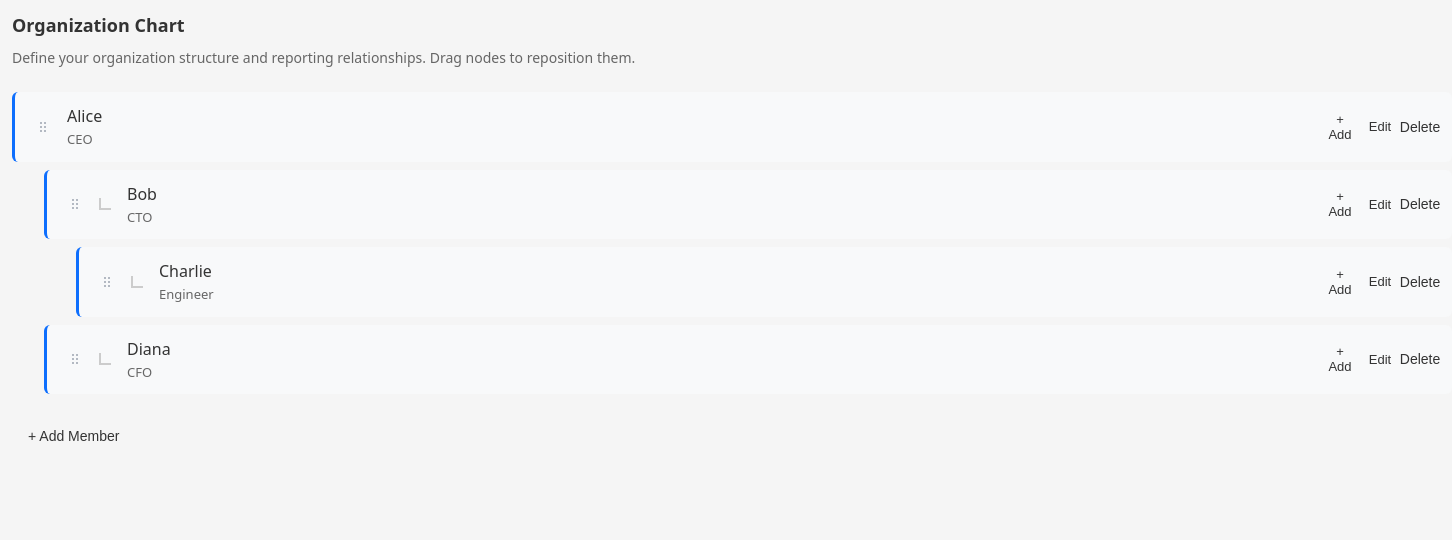
OrgChartEditor › Editing nodes › cancels edit when Cancel button is clicked
This screenshot has width=1452, height=540.
Click the button with aria-label "Edit Alice" at (1380, 127), box top-left (1364, 111), bottom-right (1396, 143)
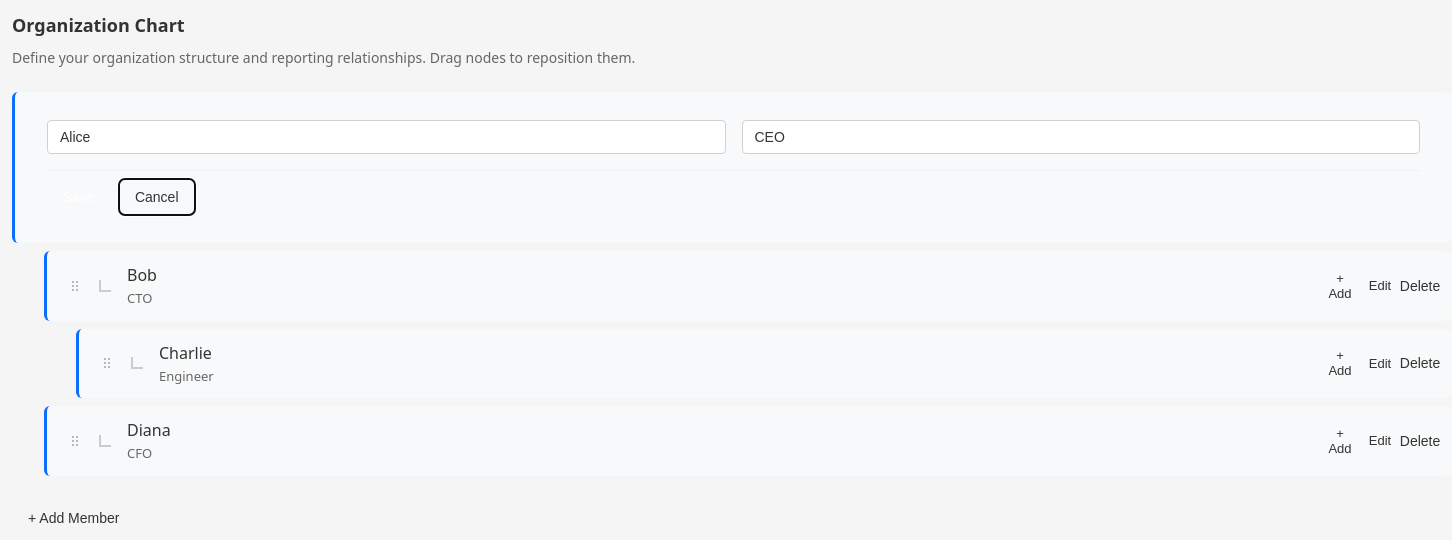
Click the button "Cancel" at (157, 197), box top-left (119, 179), bottom-right (194, 215)
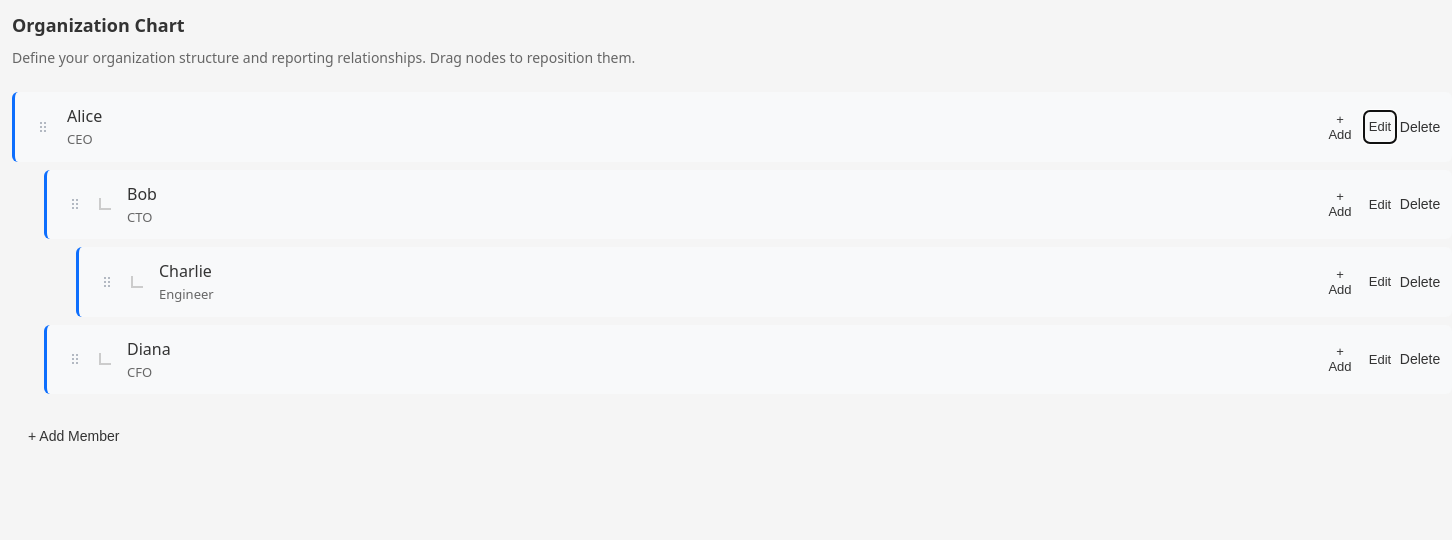
Result: the button "Save" is gone
